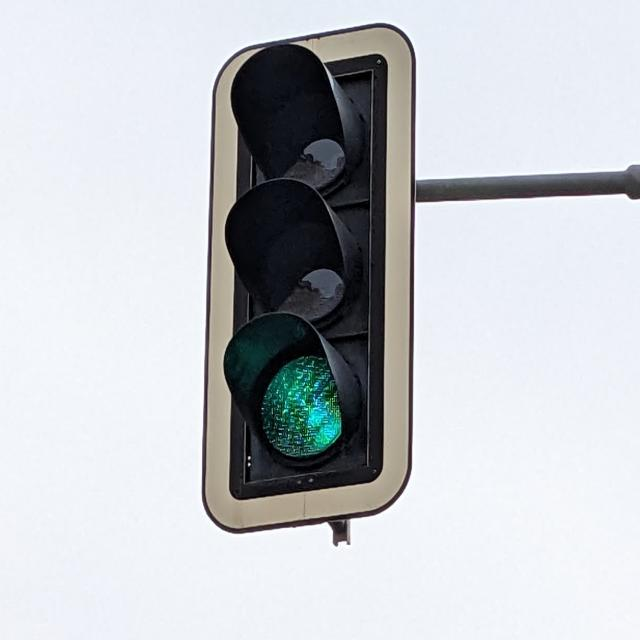green_light: (201, 23, 416, 533)
